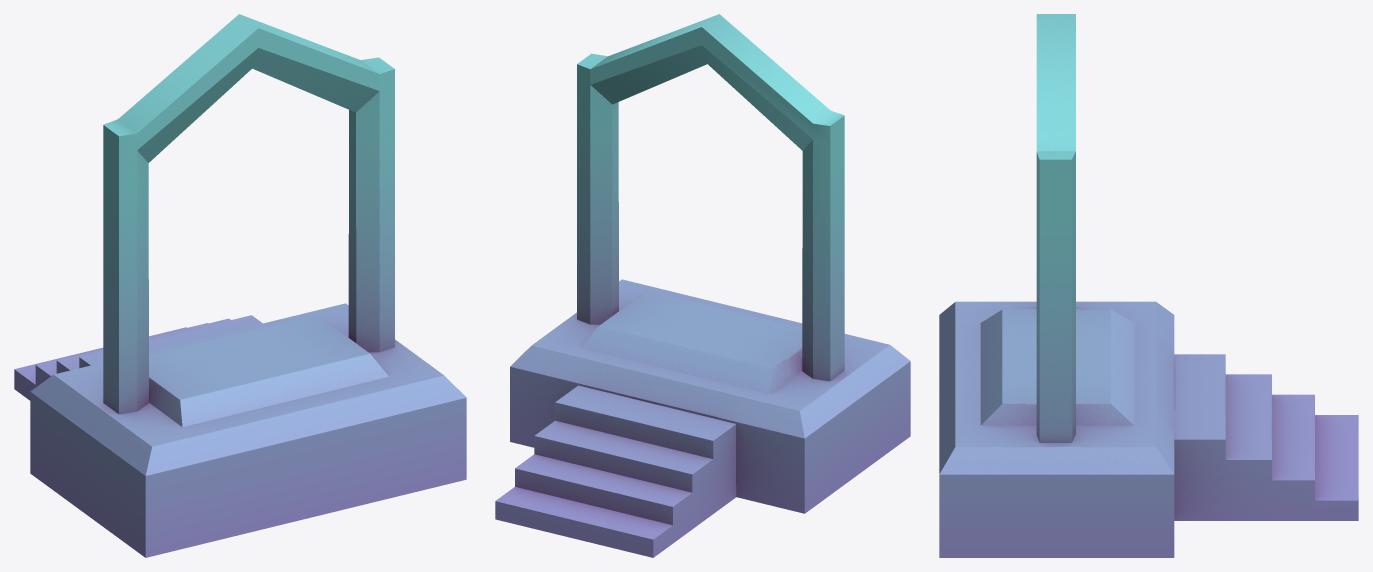
File: glitchhitch_portal.glb
The picture shows the model from 3 angles, left to right: view 1: azimuth 30°, elevation 25°; view 2: azimuth 150°, elevation 25°; view 3: azimuth 270°, elevation 25°; orthographic projection. The views are drawn at different scales.
Visible parts, largest first — view 1: stairs; view 2: stairs; view 3: stairs.
Part boxes in pixels (left/top/right/bottom): stairs: left=14, top=14, right=466, bottom=557; stairs: left=495, top=14, right=910, bottom=557; stairs: left=939, top=14, right=1358, bottom=557.
Bounding box in the file's own units: 491 × 666 × 545.
1 material, 1 textured.
